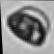correct: (4, 2, 51, 46)
